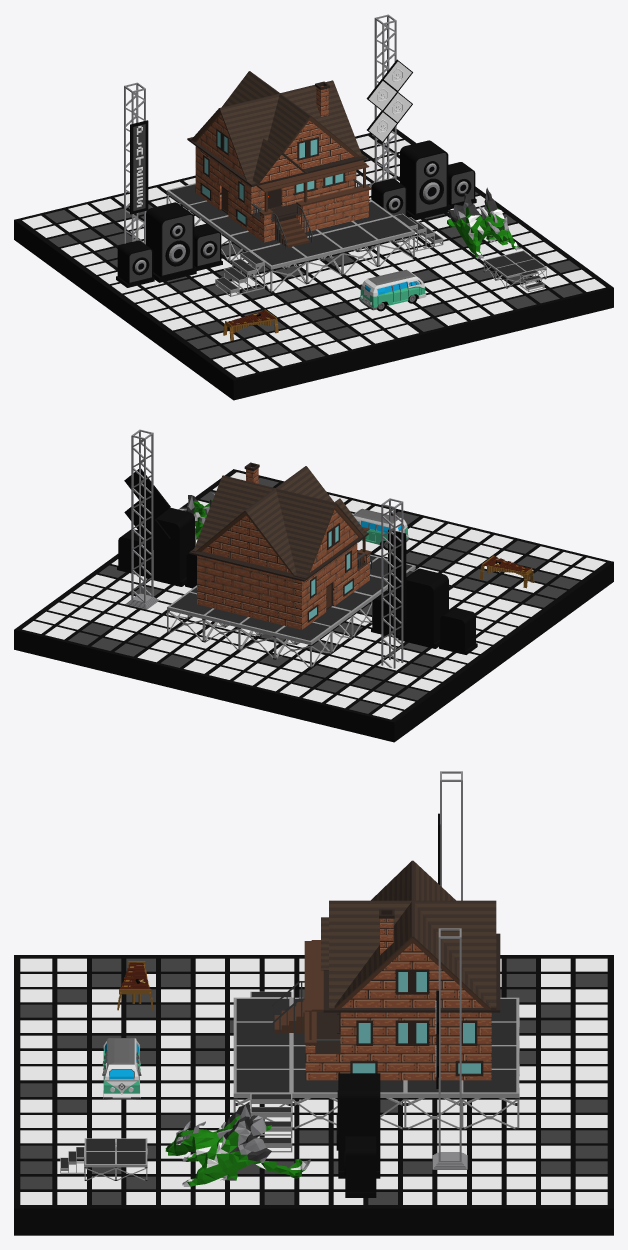
3 views of the same model, one above another, from view 1: azimuth 30°, elevation 25°; view 2: azimuth 150°, elevation 25°; view 3: azimuth 270°, elevation 25° (orthographic). The views are drawn at different scales.
Visible parts, largest first — view 1: Cube.008, Cube.469, ANIMAL_DRAGON, VEHICLES_VAN, OBJRANDOM_MARIMBA; view 2: Cube.008, Cube.469, VEHICLES_VAN, OBJRANDOM_MARIMBA, ANIMAL_DRAGON; view 3: Cube.008, Cube.469, ANIMAL_DRAGON, VEHICLES_VAN, OBJRANDOM_MARIMBA.
Part boxes in pixels (<box>): Cube.008: <box>14,14,613,400</box>; Cube.469: <box>187,71,371,248</box>; ANIMAL_DRAGON: <box>447,187,521,258</box>; VEHICLES_VAN: <box>359,269,426,311</box>; OBJRANDOM_MARIMBA: <box>223,309,278,340</box>; Cube.008: <box>14,429,613,742</box>; Cube.469: <box>189,462,372,629</box>; VEHICLES_VAN: <box>353,508,409,550</box>; OBJRANDOM_MARIMBA: <box>480,555,534,588</box>; ANIMAL_DRAGON: <box>179,492,214,545</box>; Cube.008: <box>14,771,613,1235</box>; Cube.469: <box>272,860,500,1080</box>; ANIMAL_DRAGON: <box>165,1102,310,1186</box>; VEHICLES_VAN: <box>102,1038,141,1099</box>; OBJRANDOM_MARIMBA: <box>117,961,153,1010</box>.
Size of the model in its own units: 4000 by 1950 by 4000.
42 materials, 2 textured.
